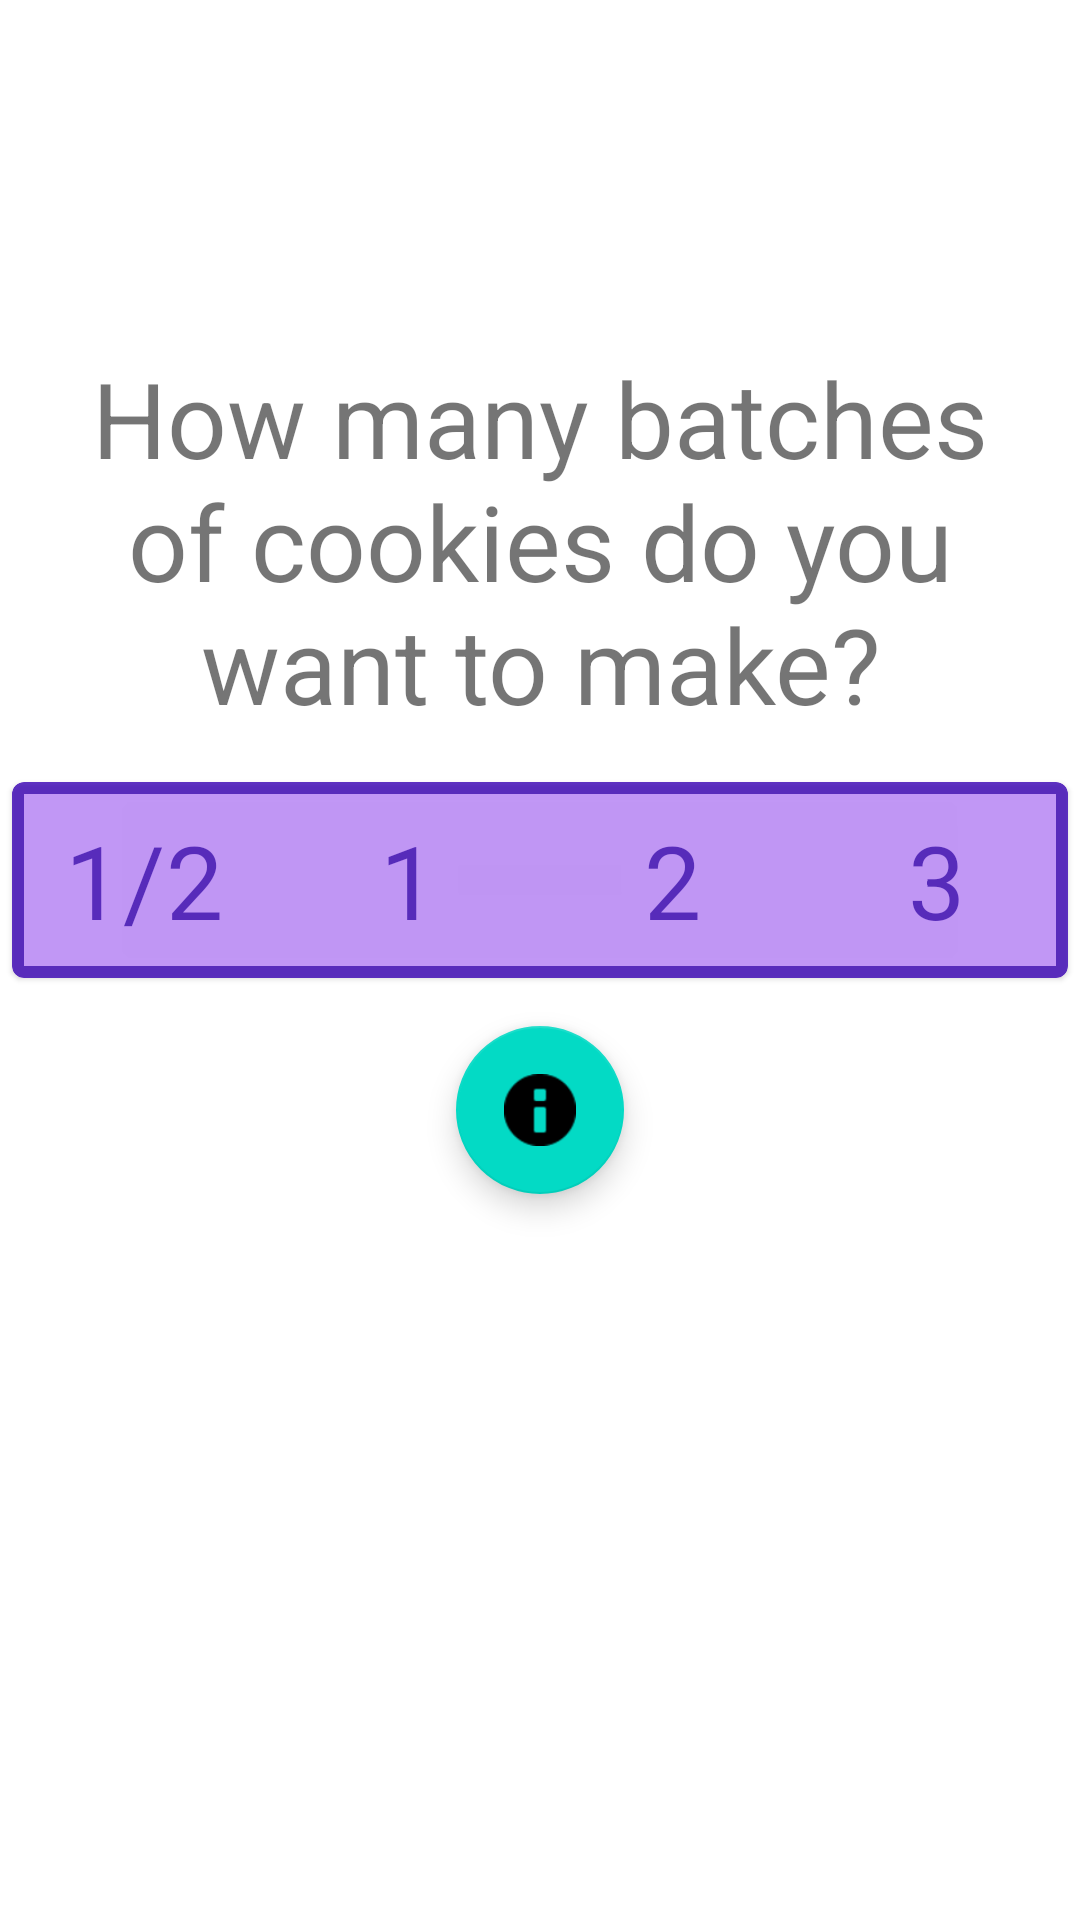

Where to tap for icons on this 1080x1920 app screen, as [x,y]:
info: [540,1110]
